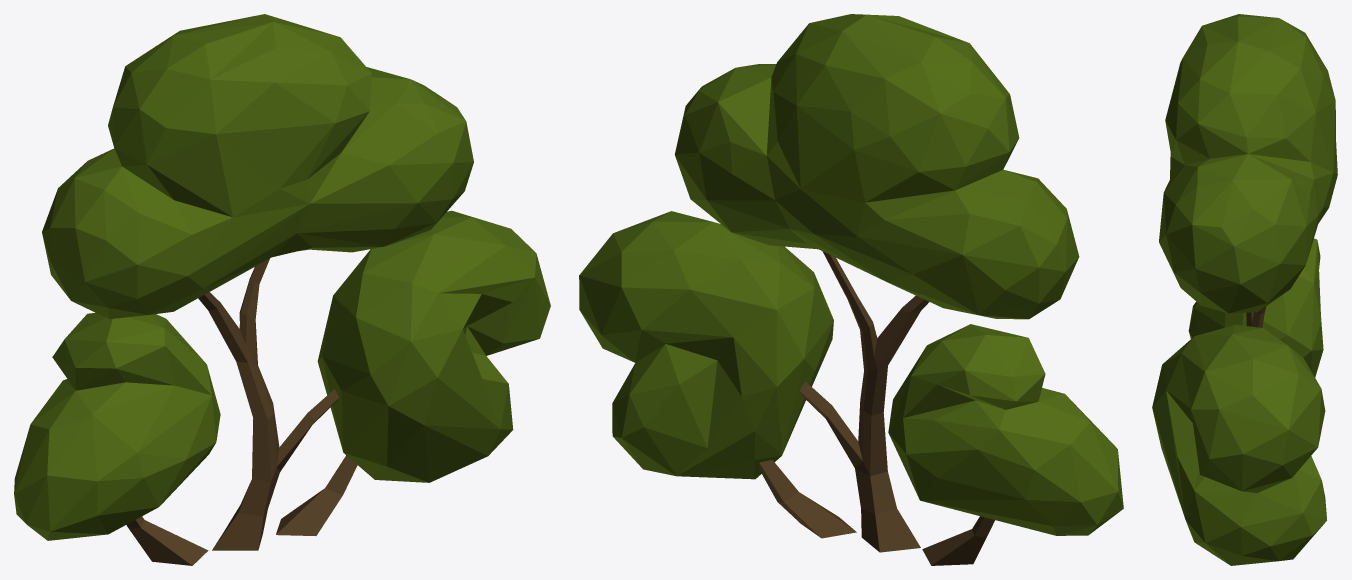
The model's file is TreesAndBushes_085.fbx.
3 renders of one model, left to right at view 1: azimuth 30°, elevation 25°; view 2: azimuth 150°, elevation 25°; view 3: azimuth 270°, elevation 25°, orthographic. The views are drawn at different scales.
Visible parts, largest first — view 1: TreesAndBushes_085; view 2: TreesAndBushes_085; view 3: TreesAndBushes_085.
Boxes of the visible parts, x1,y1,x2,y2 form: TreesAndBushes_085: [14, 14, 550, 565]; TreesAndBushes_085: [579, 14, 1123, 565]; TreesAndBushes_085: [1152, 14, 1337, 565].
Bounding box in the file's own units: 156 × 147 × 53.14.
